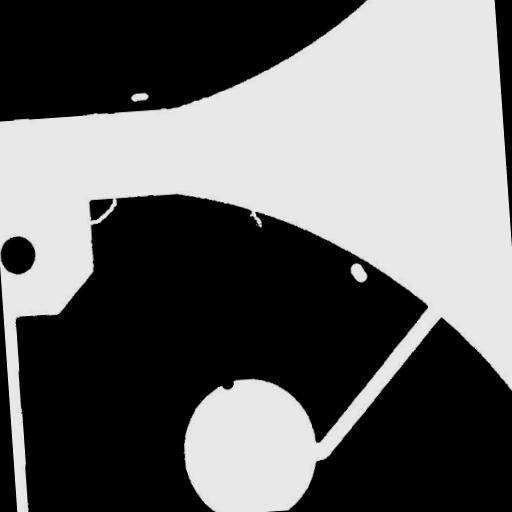mousebite: (241, 200, 270, 236)
open: (79, 190, 126, 233)
pin-hole: (342, 254, 375, 291), (122, 84, 157, 109)
spur: (213, 369, 242, 398)
